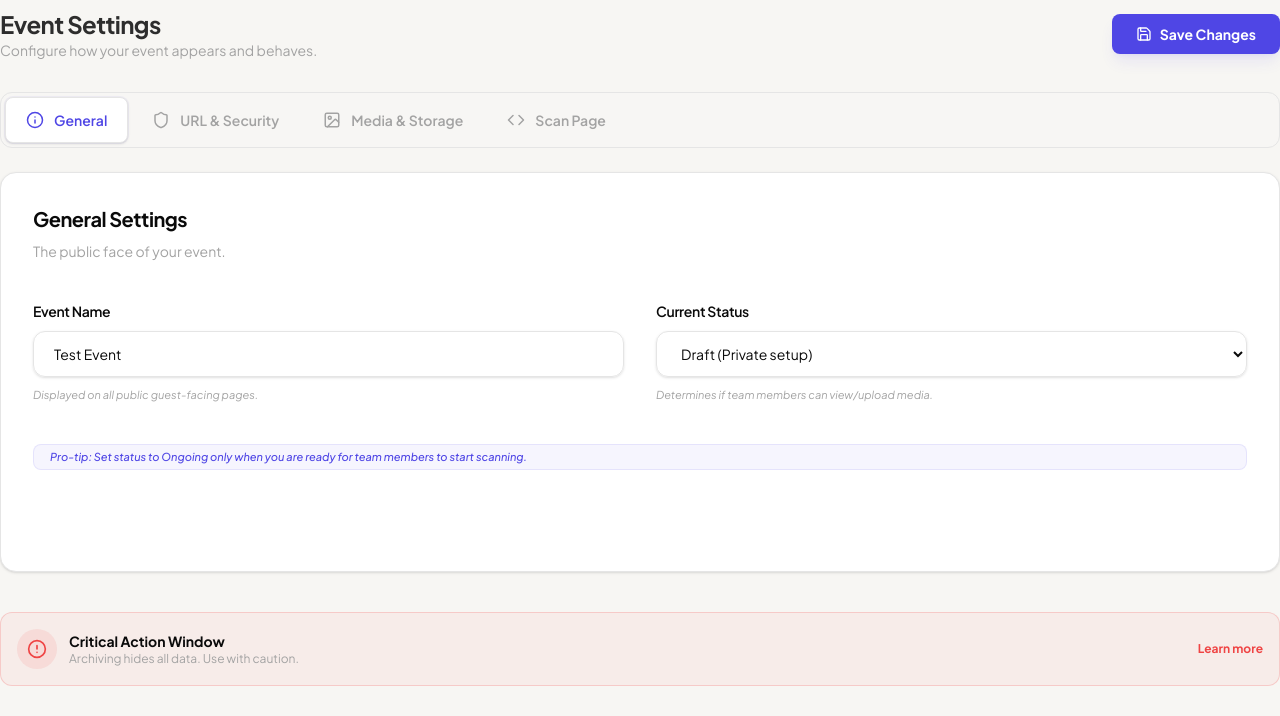
Test: GeneralTab › US3: validates slug in real-time
# Slug is on the Security tab
Click the button "URL & Security" at (216, 120), box 132,98 -> 299,142
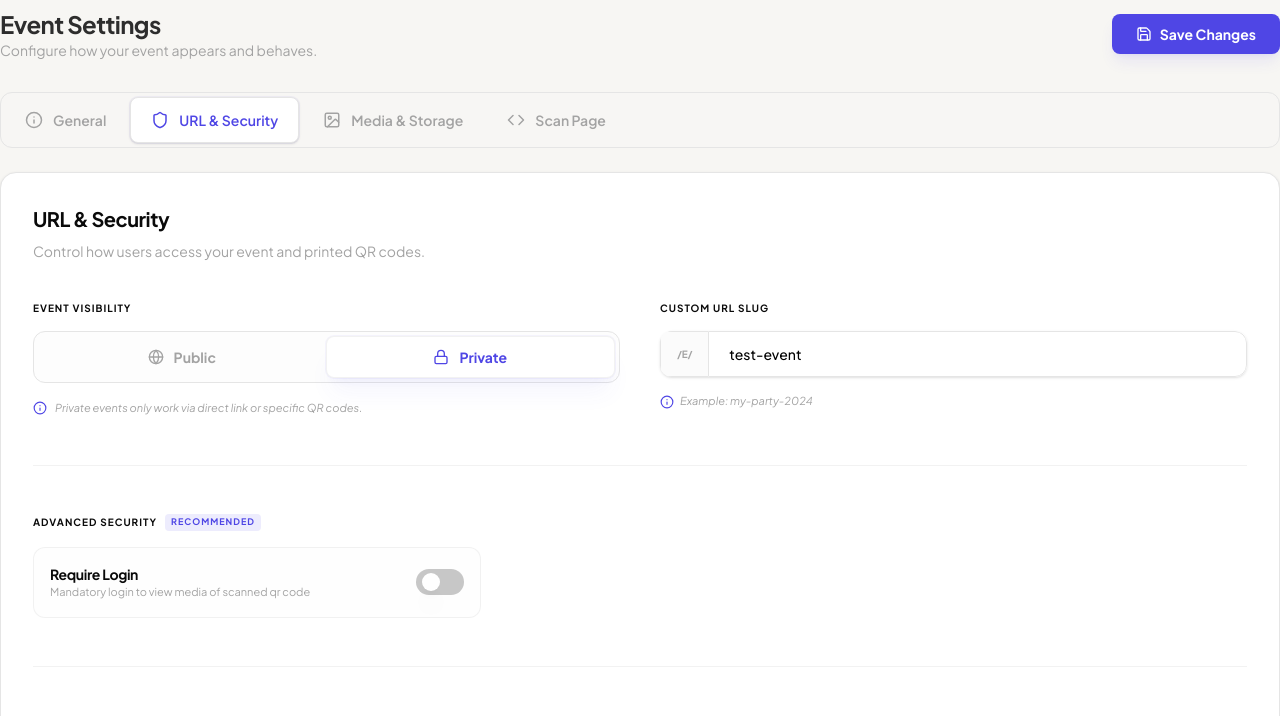
Replace the text in the field with placeholder "event-slug" with "invalid slug" at (978, 354), box 708,331 -> 1247,377
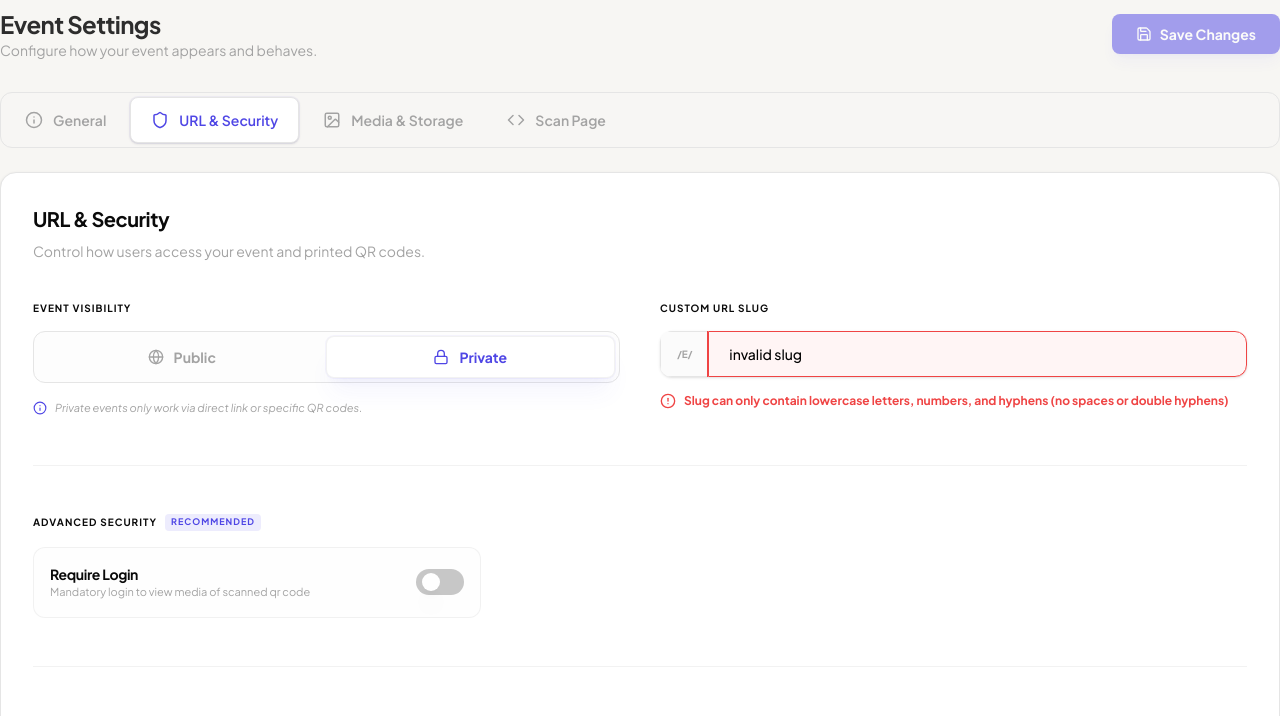
Expected: the text "Slug can only contain" is shown, 684,393 -> 1229,408
